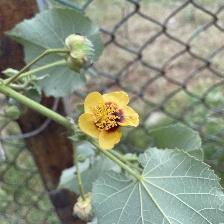indian mallow: (79, 89, 142, 153)
